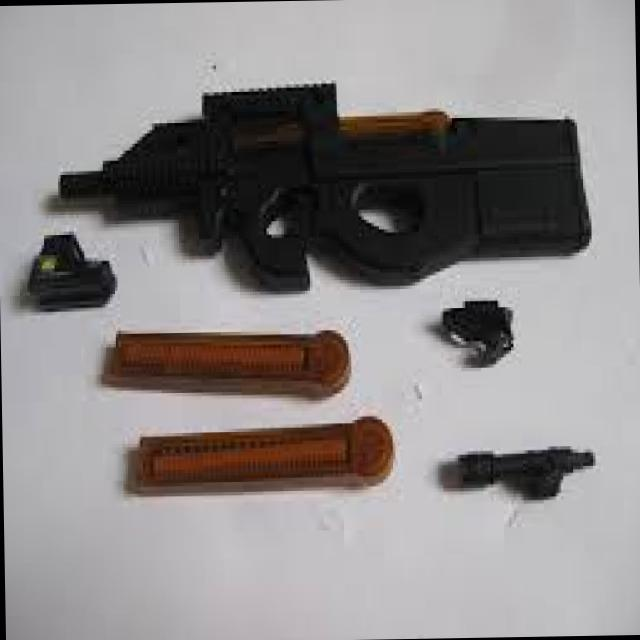Gun: (37, 74, 600, 300)
